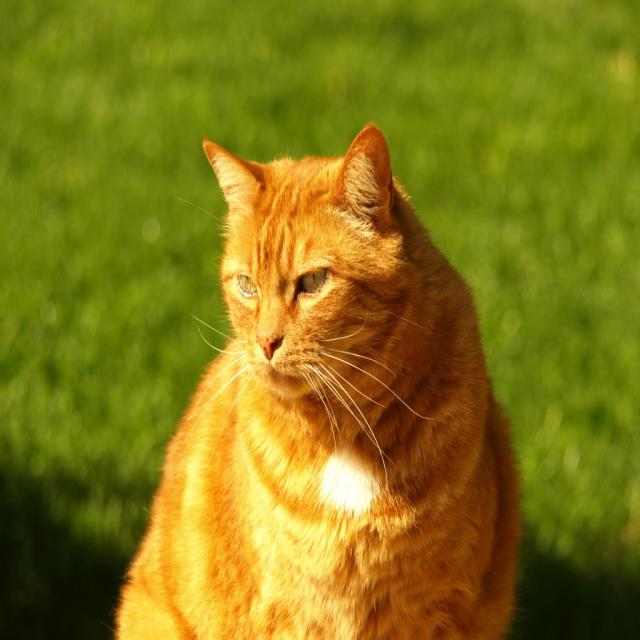Cat: (112, 121, 526, 638)
